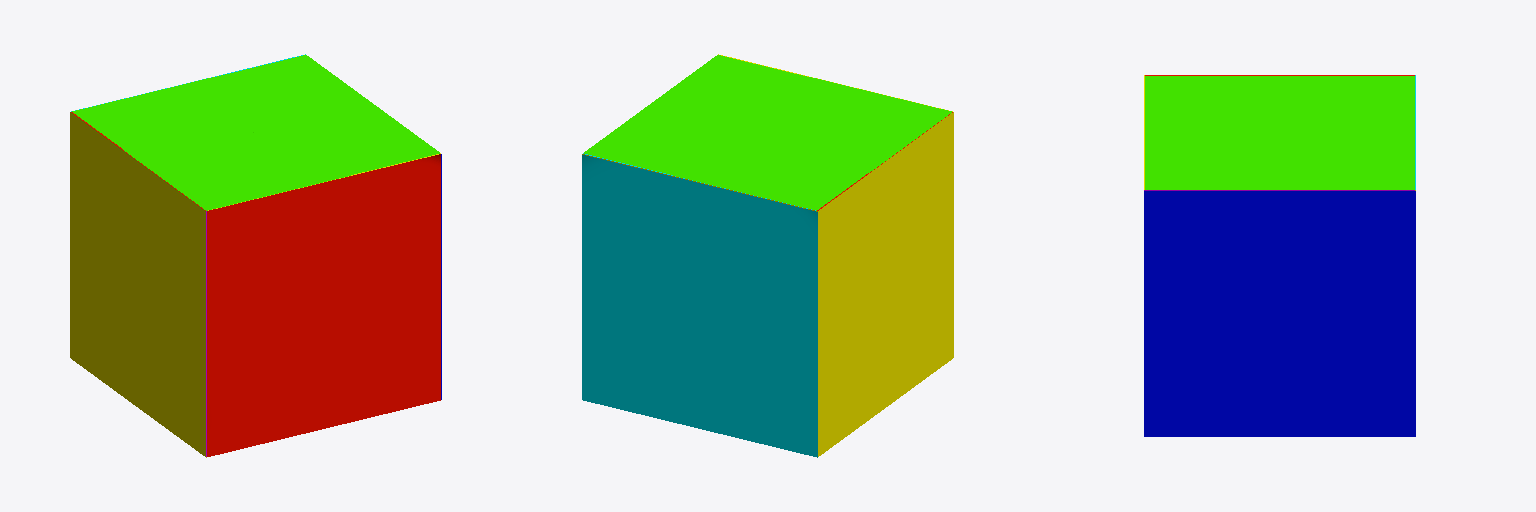
3 views of the same model, side by side, from view 1: azimuth 30°, elevation 25°; view 2: azimuth 150°, elevation 25°; view 3: azimuth 270°, elevation 25° (orthographic).
Visible parts, largest first — view 1: Cube.001; view 2: Cube.001; view 3: Cube.001.
Part boxes in pixels (left/top/right/bottom): Cube.001: left=70, top=54, right=441, bottom=457; Cube.001: left=582, top=54, right=953, bottom=457; Cube.001: left=1144, top=75, right=1415, bottom=436.
Size of the model in its own units: 2 by 2 by 2.
1 materials, 1 textured.